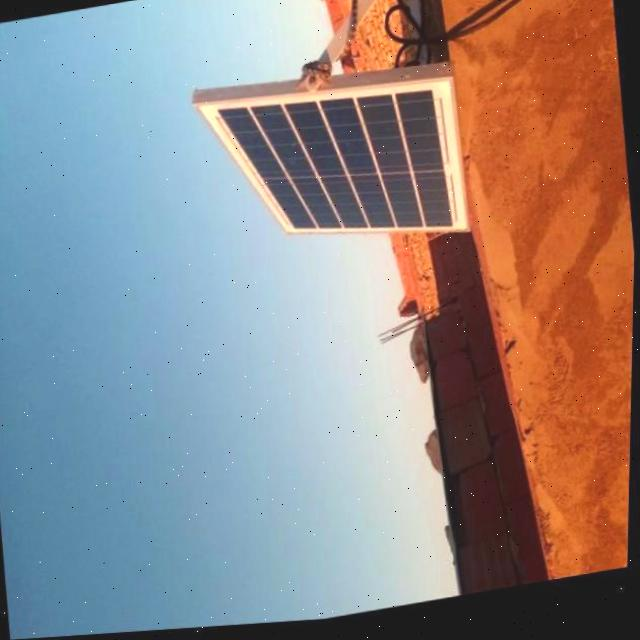Normal Solar Panel: (191, 64, 471, 282)
